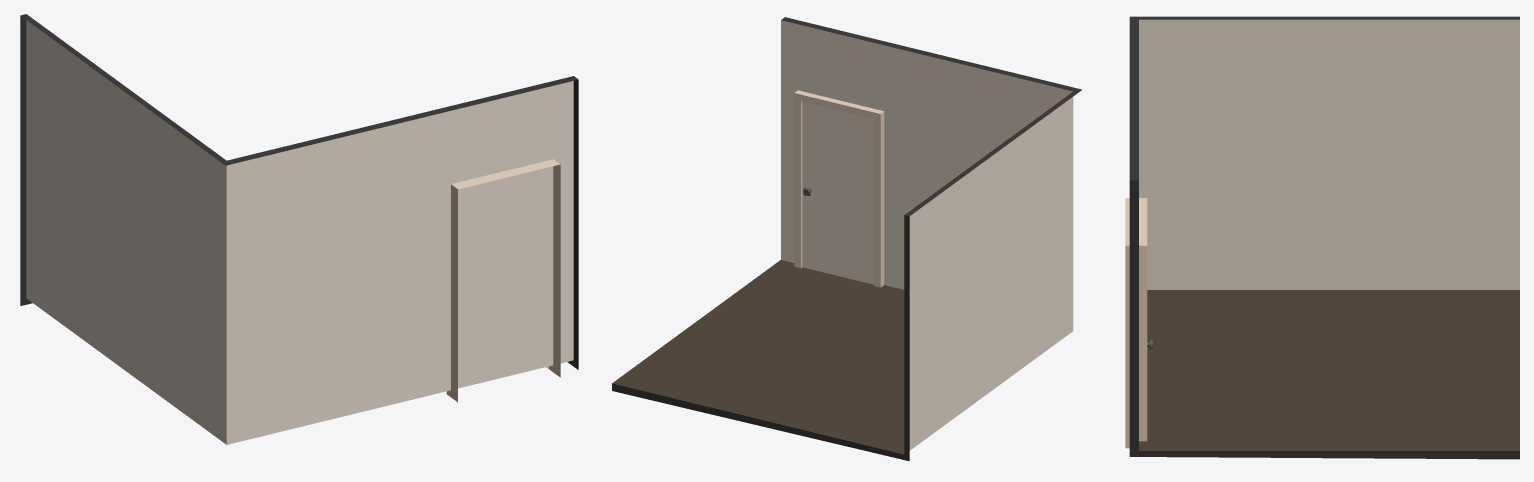
The model's file is Room_1.fbx.
3 renders of one model, left to right at view 1: azimuth 30°, elevation 25°; view 2: azimuth 150°, elevation 25°; view 3: azimuth 270°, elevation 25°, orthographic. The views are drawn at different scales.
Visible parts, largest first — view 1: Room_1.001; view 2: Room_1.001; view 3: Room_1.001.
Part boxes in pixels (box(x1,y1,x2,y2)): Room_1.001: box(20, 14, 578, 444); Room_1.001: box(612, 17, 1081, 461); Room_1.001: box(1125, 16, 1519, 459).
Size of the model in its own units: 4.21 by 3.38 by 4.26.
